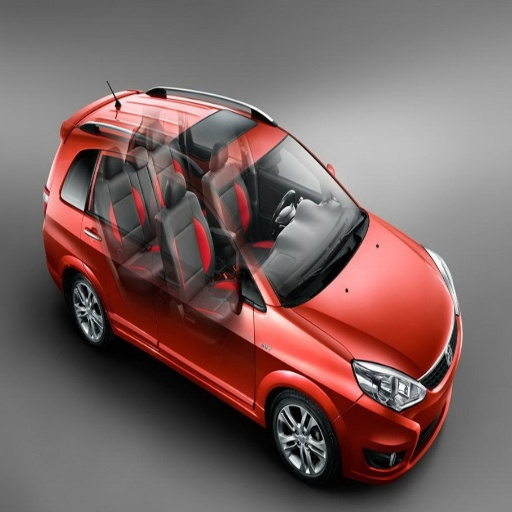front_bumper: (333, 371, 453, 482)
front_glass: (271, 246, 349, 305)
front_right_door: (159, 220, 253, 406)
front_right_light: (351, 361, 418, 410)
trunk: (51, 134, 168, 249)
